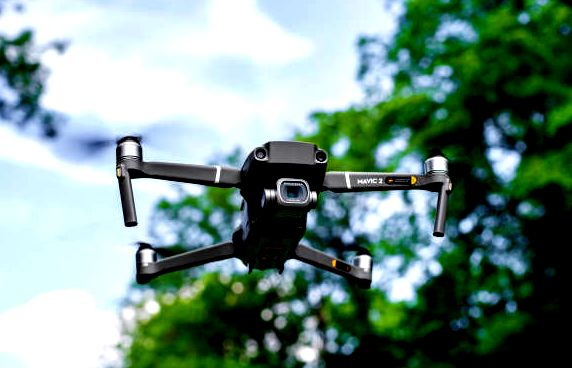Drone: (72, 111, 490, 295)
